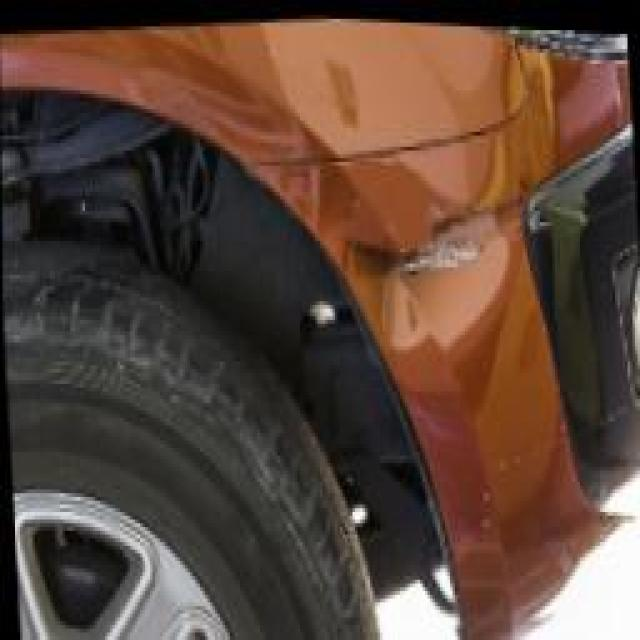Bumper: (328, 120, 639, 608)
